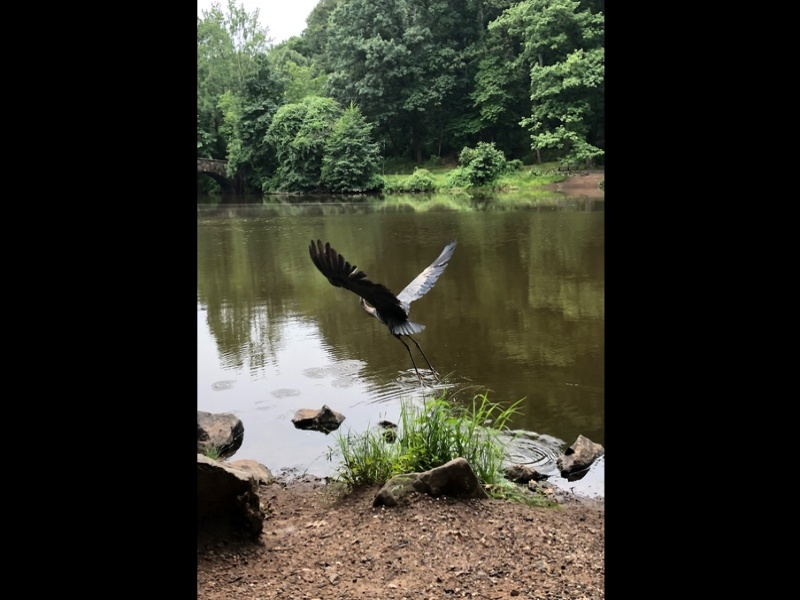heron: (309, 237, 457, 350)
